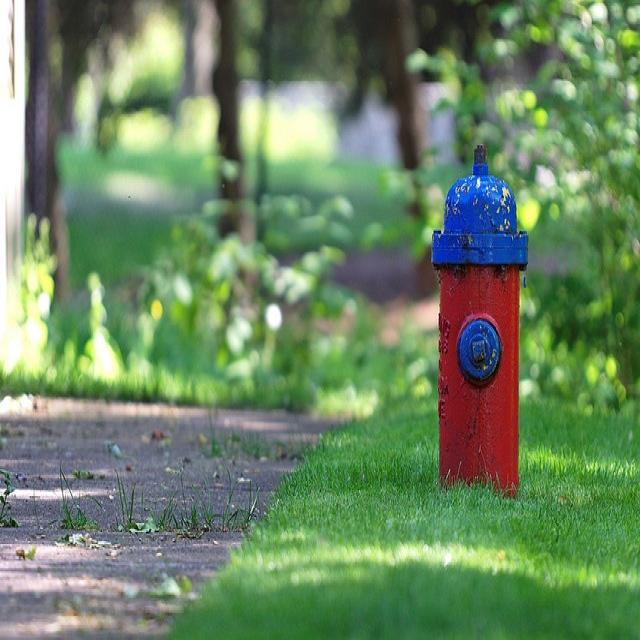fire_hydrant: (428, 140, 527, 494)
